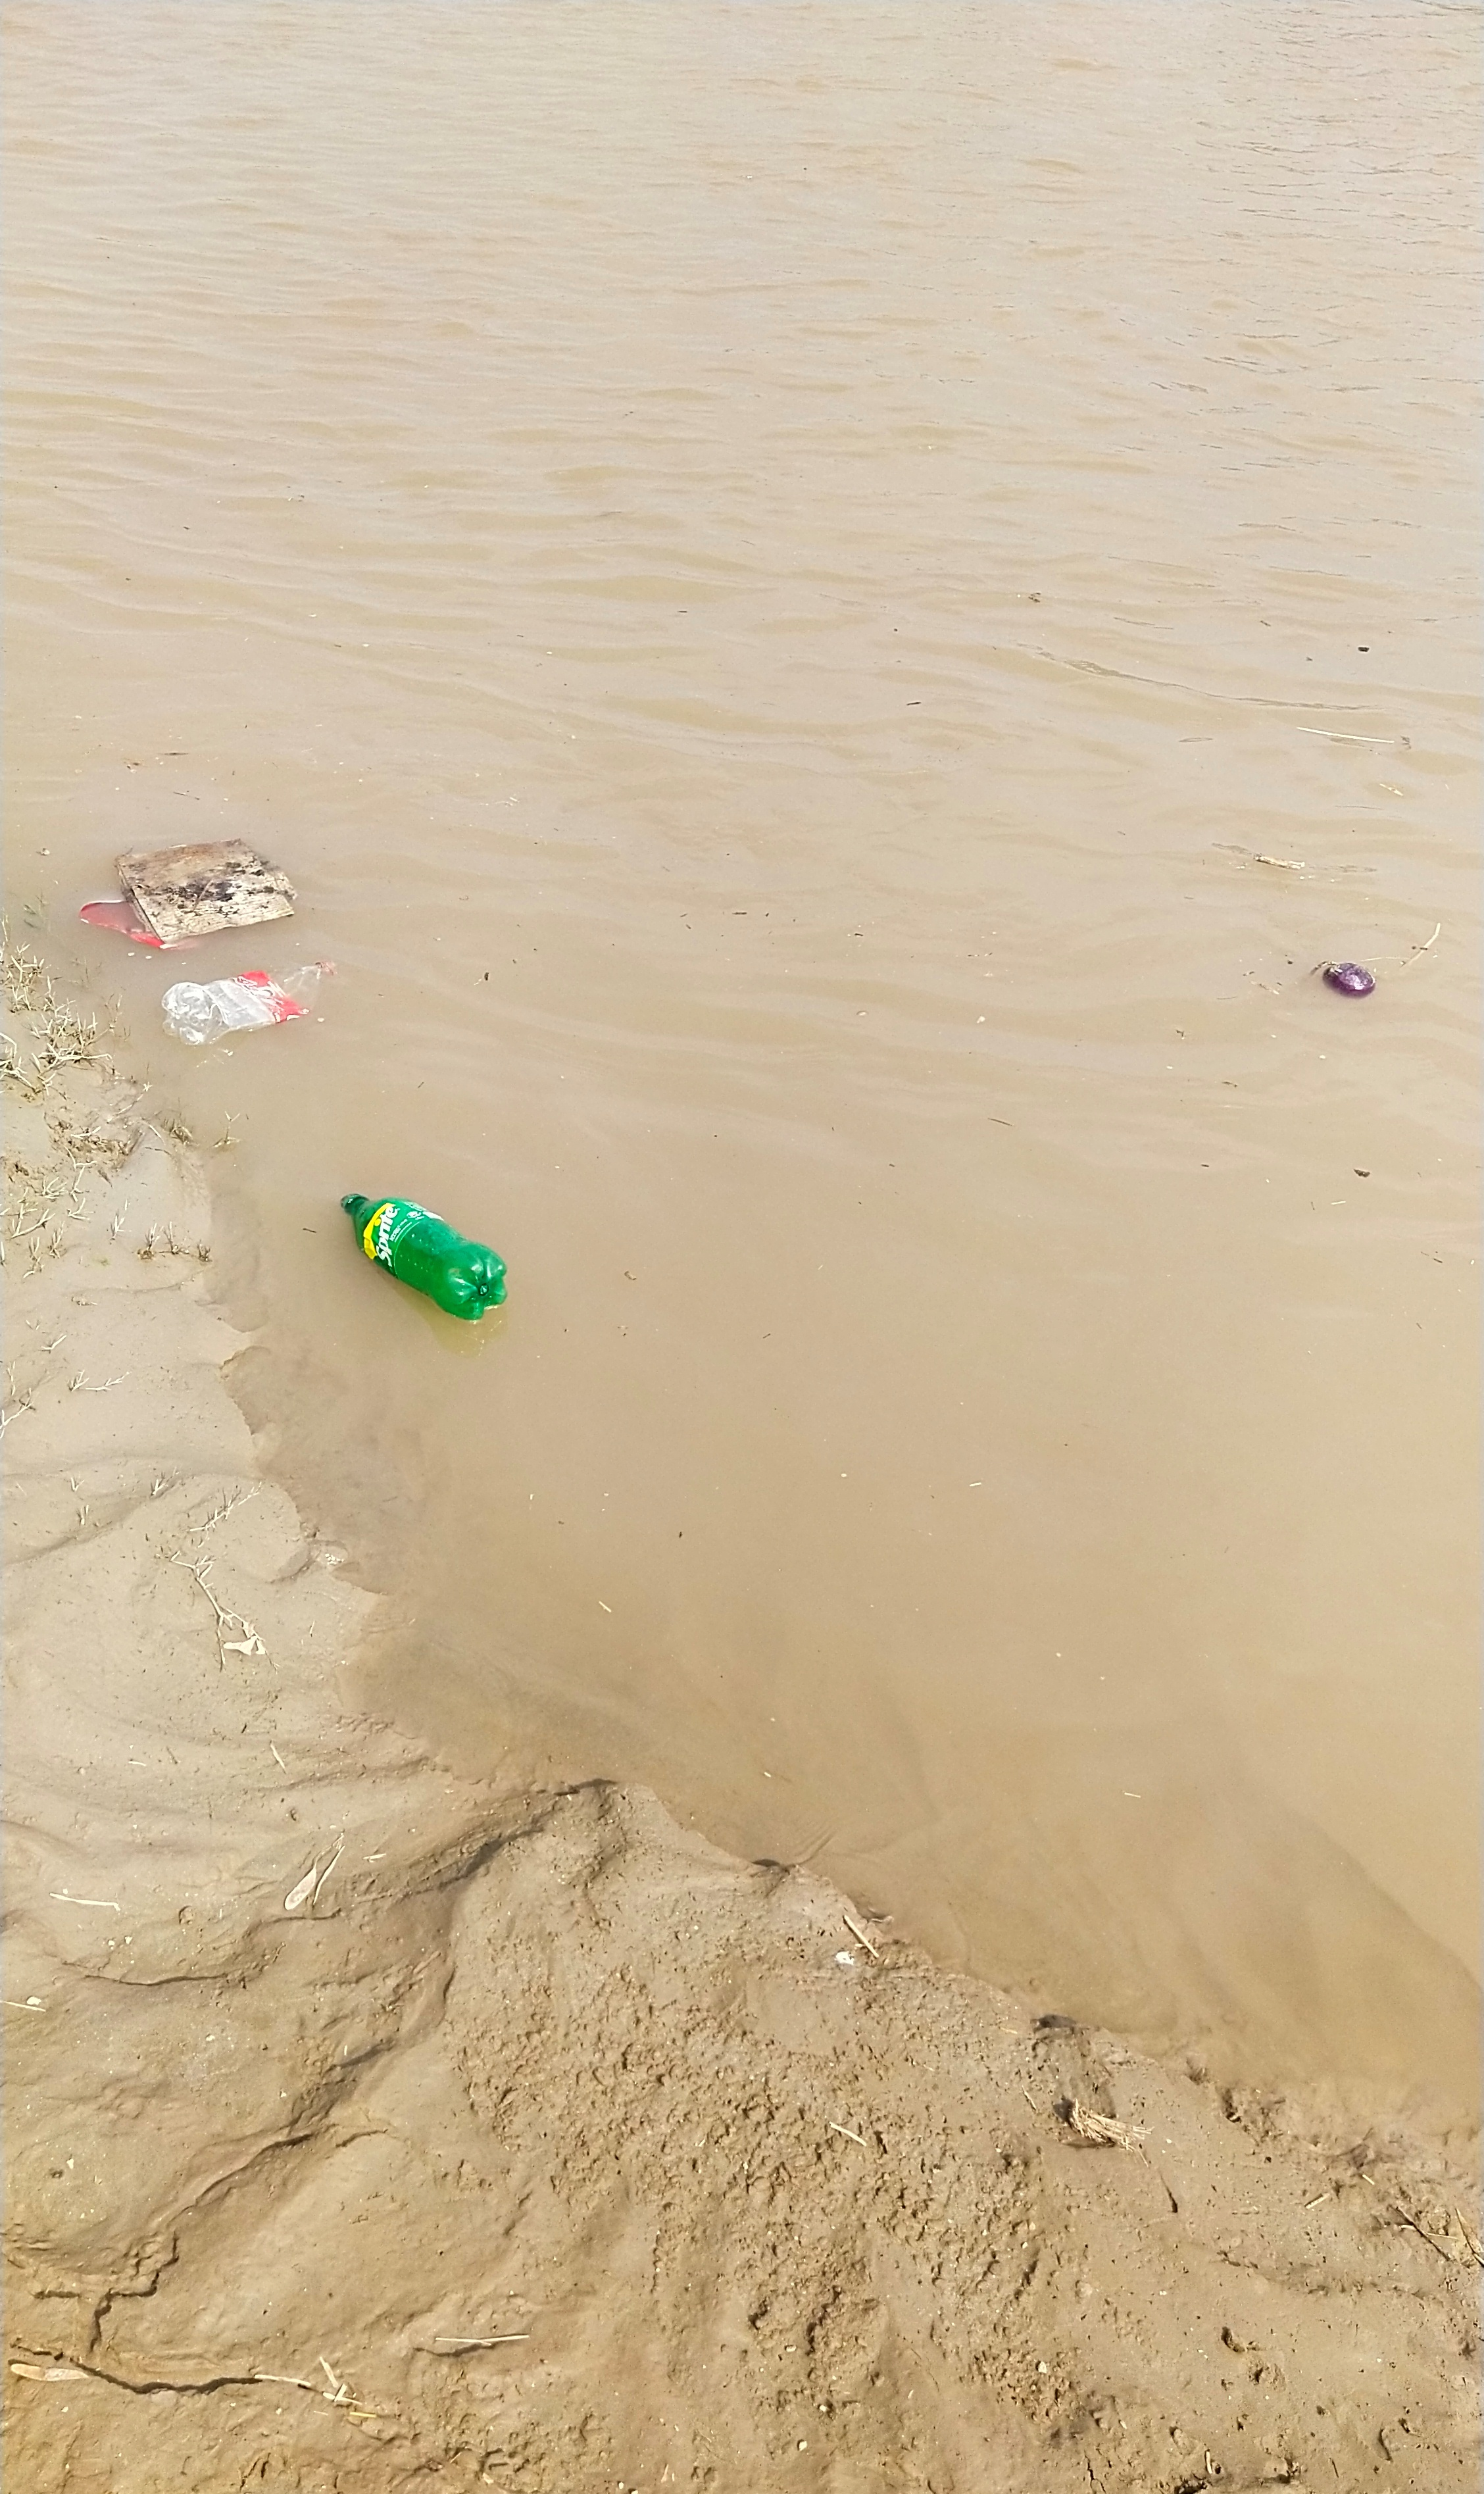Plastic Bottle: (341, 1192, 507, 1321), (161, 959, 336, 1046)
